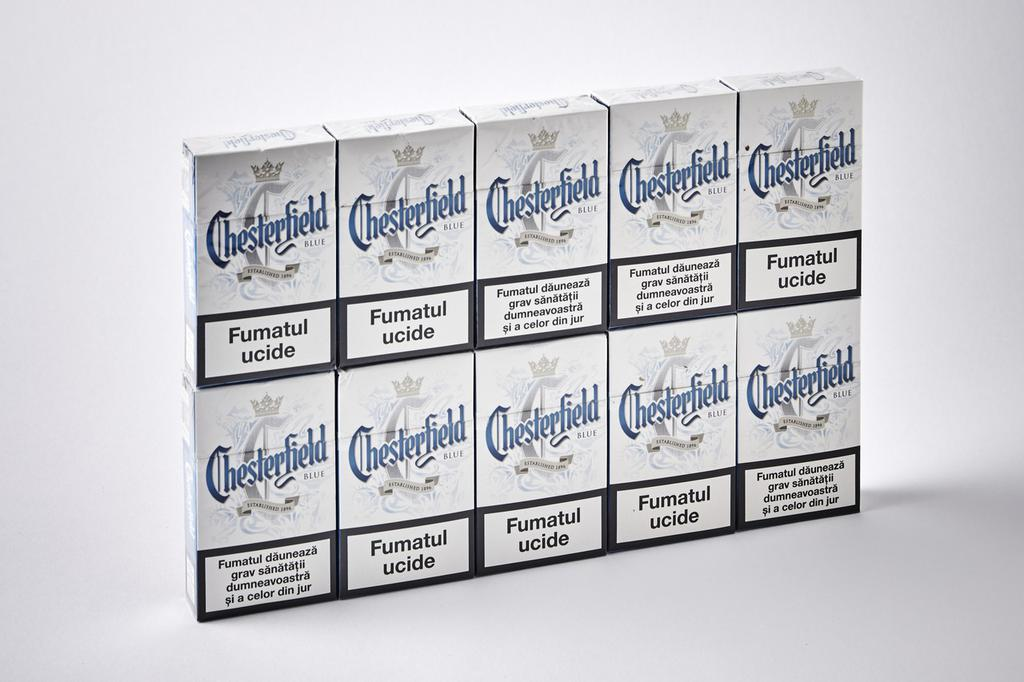chesterfield_blue: (191, 149, 334, 371), (338, 130, 474, 349), (203, 380, 334, 606), (341, 361, 472, 585), (736, 82, 862, 301), (481, 340, 605, 561), (615, 99, 736, 321), (481, 116, 605, 332), (612, 328, 736, 544), (741, 309, 862, 516)
